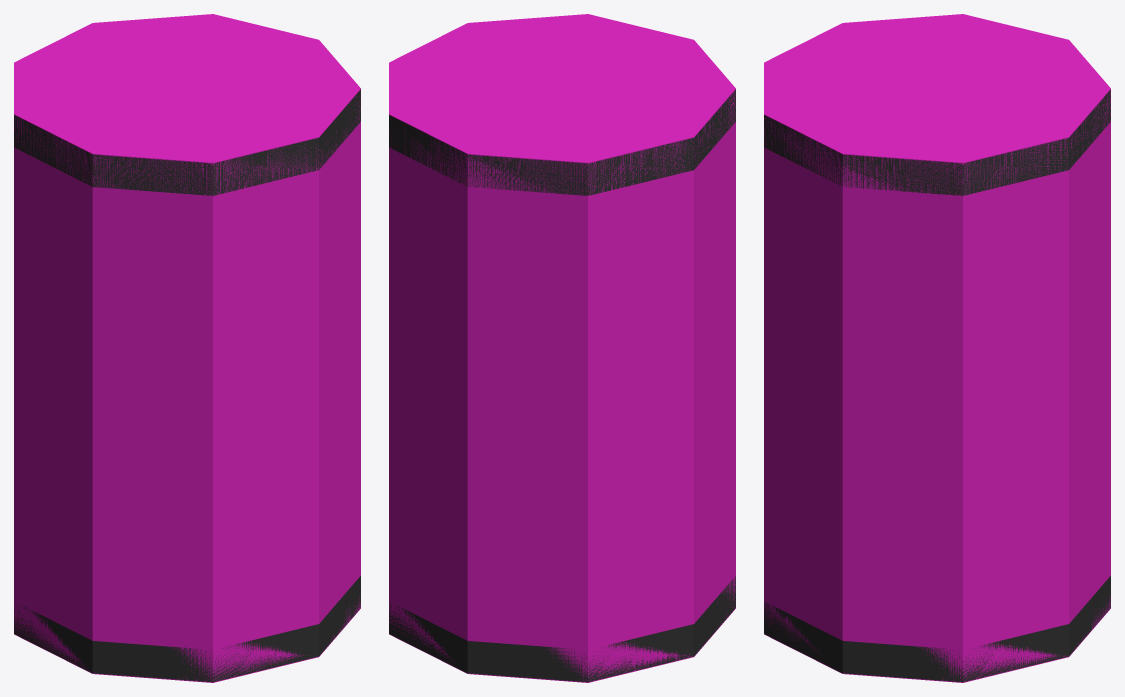
Rendered from powercell.fbx.
The picture shows the model from 3 angles, left to right: view 1: azimuth 30°, elevation 25°; view 2: azimuth 150°, elevation 25°; view 3: azimuth 270°, elevation 25°; orthographic projection.
Parts seen in each view (by area): view 1: powercell_COL, Cylinder.003, Cylinder.002; view 2: powercell_COL, Cylinder.003, Cylinder.002; view 3: powercell_COL, Cylinder.003, Cylinder.002.
Boxes of the visible parts, x1,y1,x2,y2 form: powercell_COL: (14, 14, 360, 682); Cylinder.003: (14, 89, 360, 195); Cylinder.002: (14, 576, 360, 682); powercell_COL: (389, 14, 735, 682); Cylinder.003: (389, 89, 735, 195); Cylinder.002: (389, 576, 735, 682); powercell_COL: (764, 14, 1110, 682); Cylinder.003: (764, 90, 1110, 195); Cylinder.002: (764, 576, 1110, 681).
Size of the model in its own units: 194 by 197 by 321.
